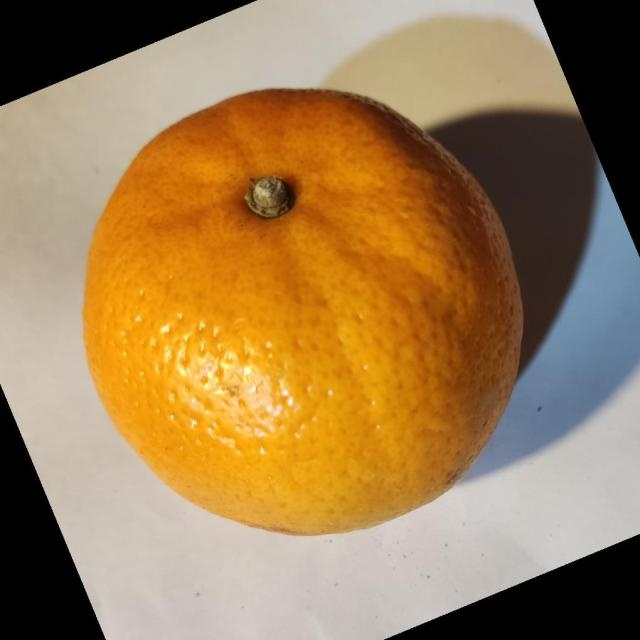agrume: (81, 86, 524, 537)
